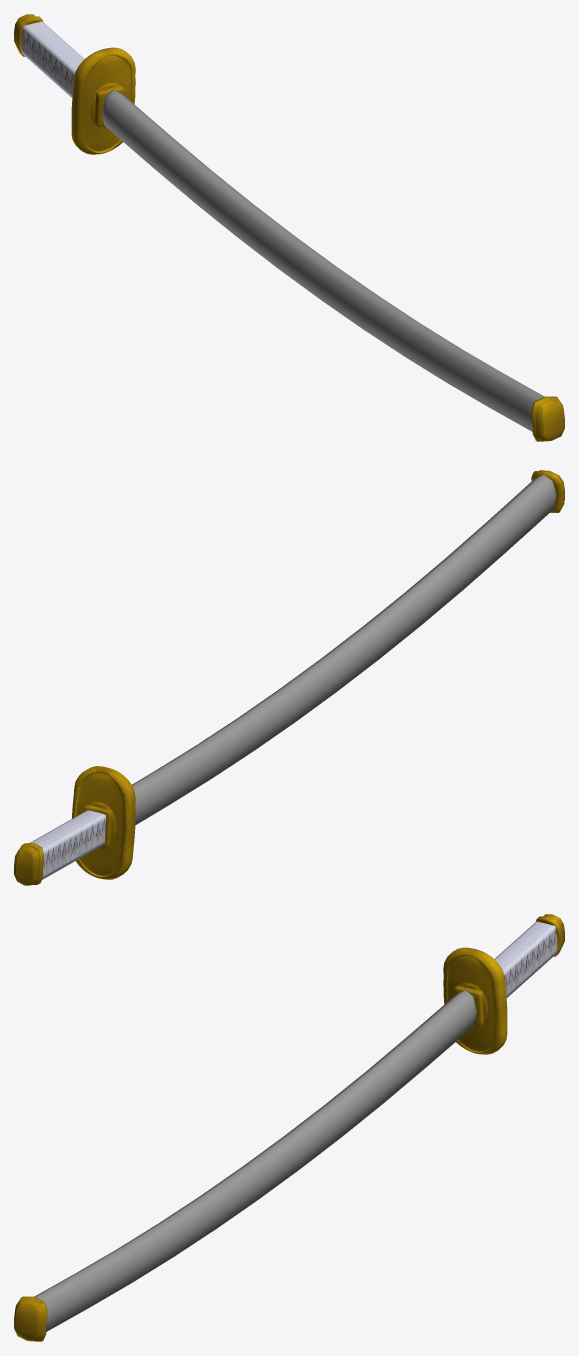
Rendered from JapaneseSword.FBX.
The picture shows the model from 3 angles, top to bottom: view 1: azimuth 30°, elevation 25°; view 2: azimuth 150°, elevation 25°; view 3: azimuth 330°, elevation 25°; orthographic projection.
Parts seen in each view (by area): view 1: JapaneseSwordD_H, JapaneseSwordA_H, JapaneseSwordB_H; view 2: JapaneseSwordD_H, JapaneseSwordA_H, JapaneseSwordB_H, Object005; view 3: JapaneseSwordD_H, JapaneseSwordA_H, JapaneseSwordB_H.
Boxes of the visible parts, x1,y1,x2,y2 form: JapaneseSwordD_H: (102, 90, 564, 441); JapaneseSwordA_H: (71, 47, 135, 154); JapaneseSwordB_H: (21, 21, 84, 97); JapaneseSwordD_H: (132, 470, 564, 825); JapaneseSwordA_H: (72, 766, 135, 879); JapaneseSwordB_H: (30, 810, 105, 879); Object005: (14, 843, 43, 885); JapaneseSwordD_H: (14, 990, 476, 1341); JapaneseSwordA_H: (443, 947, 507, 1054); JapaneseSwordB_H: (494, 921, 557, 997).
Bounding box in the file's own units: 32.04 × 56.02 × 504.
2 materials, 1 textured.
